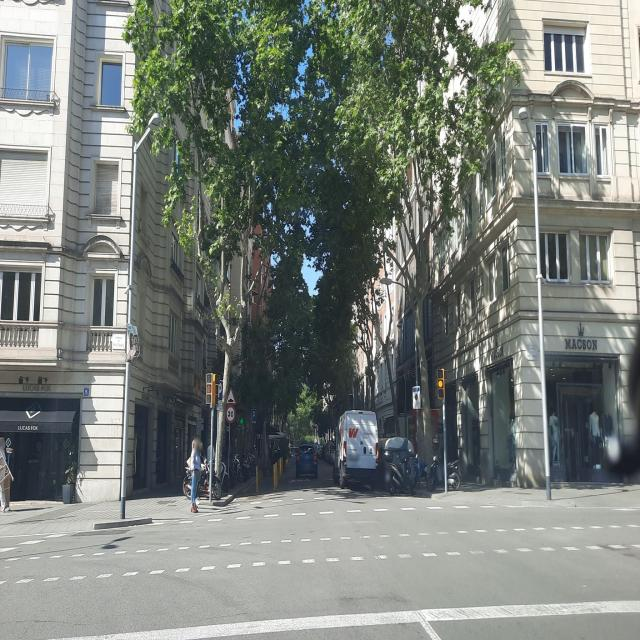car: (336, 409, 378, 491), (379, 435, 416, 492), (295, 441, 318, 480), (324, 441, 333, 463)
